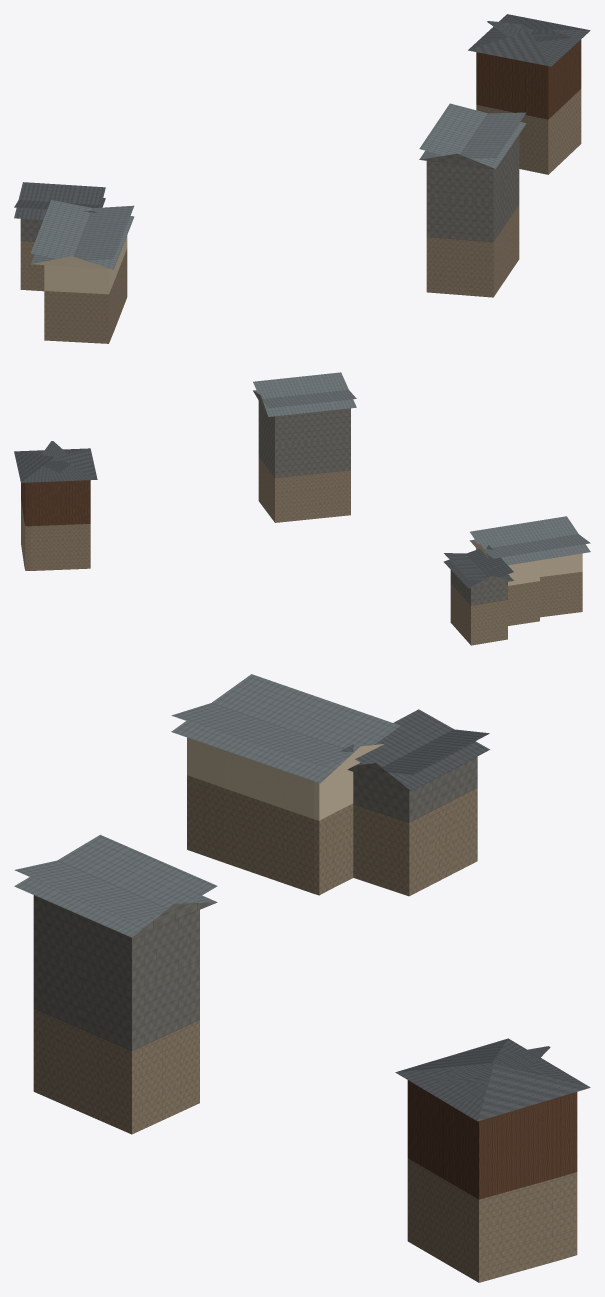
File: bld_c-3_18_535.gltf
3 renders of one model, top to bottom at view 1: azimuth 30°, elevation 25°; view 2: azimuth 150°, elevation 25°; view 3: azimuth 270°, elevation 25°, orthographic. The views are drawn at different scales.
Parts seen in each view (by area): view 1: bld_c-3_18_535; view 2: bld_c-3_18_535; view 3: bld_c-3_18_535.
Boxes of the visible parts, left/top/right/bottom form: bld_c-3_18_535: left=14, top=14, right=590, bottom=343; bld_c-3_18_535: left=14, top=372, right=590, bottom=645; bld_c-3_18_535: left=14, top=674, right=590, bottom=1282.
Size of the model in its own units: 61.41 by 14.5 by 32.06.
Materials: 8 (8 with a texture image).
